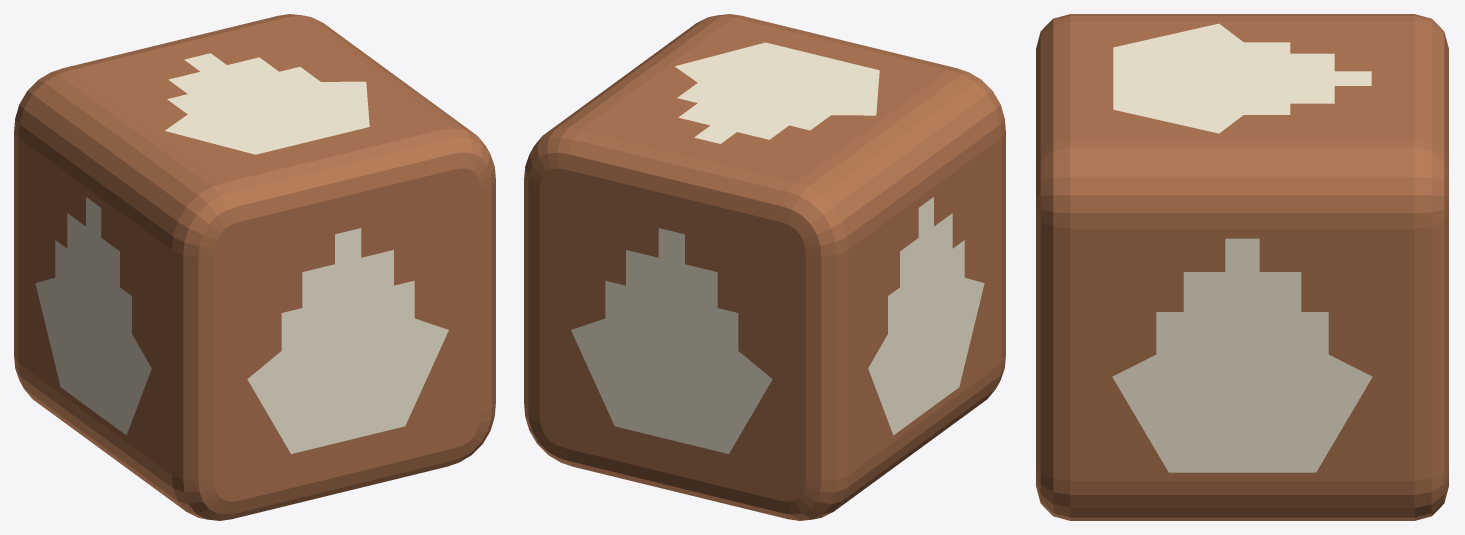
Rendered from budget-marker-5.glb.
The picture shows the model from 3 angles, left to right: view 1: azimuth 30°, elevation 25°; view 2: azimuth 150°, elevation 25°; view 3: azimuth 270°, elevation 25°; orthographic projection. The views are drawn at different scales.
Visible parts, largest first — view 1: budget-marker-5; view 2: budget-marker-5; view 3: budget-marker-5.
Boxes of the visible parts, x1=… form: budget-marker-5: x1=14, y1=14, x2=495, y2=520; budget-marker-5: x1=524, y1=14, x2=1005, y2=520; budget-marker-5: x1=1036, y1=14, x2=1448, y2=520.
Bounding box in the file's own units: 0.008 × 0.008 × 0.008.
